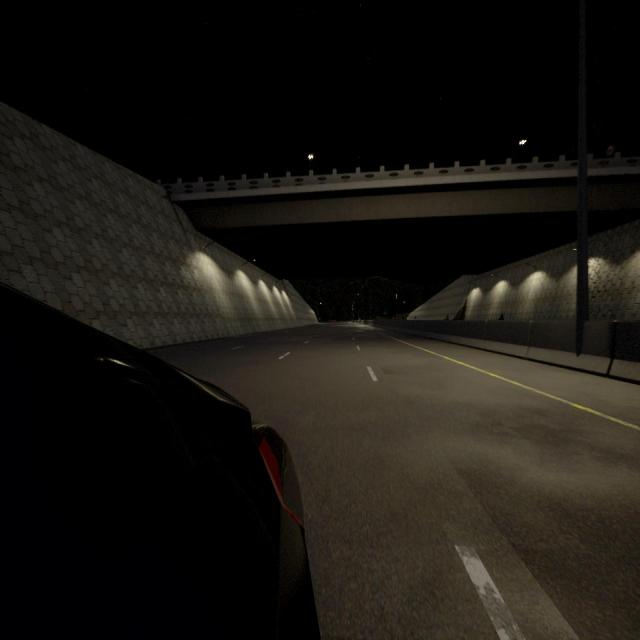Traffic_Signs: (318, 317, 322, 320)
Vehicle: (0, 282, 323, 640)
